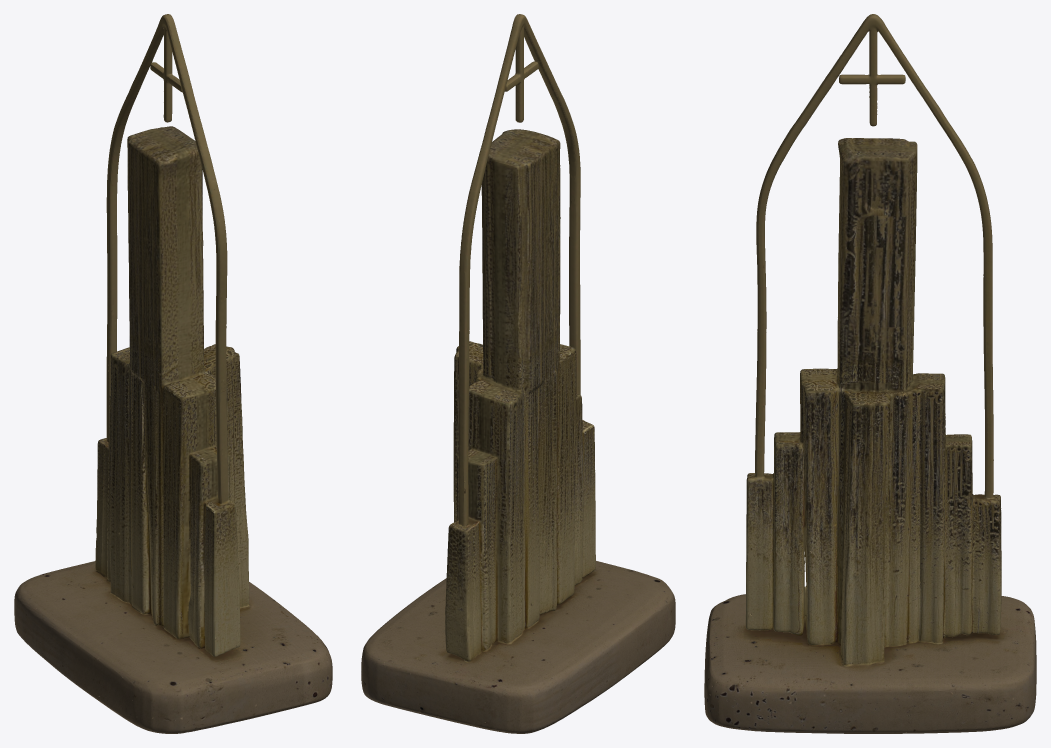
Rendered from souvenir.glb.
3 renders of one model, left to right at view 1: azimuth 30°, elevation 25°; view 2: azimuth 150°, elevation 25°; view 3: azimuth 270°, elevation 25°, orthographic. The views are drawn at different scales.
Visible parts, largest first — view 1: tripo_node_6ff32ba3-b252-4764-bf0c-e291f1ad712c; view 2: tripo_node_6ff32ba3-b252-4764-bf0c-e291f1ad712c; view 3: tripo_node_6ff32ba3-b252-4764-bf0c-e291f1ad712c.
Part boxes in pixels (box(x1,y1,x2,y2)): tripo_node_6ff32ba3-b252-4764-bf0c-e291f1ad712c: box(14, 14, 332, 733); tripo_node_6ff32ba3-b252-4764-bf0c-e291f1ad712c: box(361, 14, 675, 733); tripo_node_6ff32ba3-b252-4764-bf0c-e291f1ad712c: box(704, 14, 1036, 733).
Bounding box in the file's own units: 0.3176 × 1 × 0.4465.
Materials: 1 (1 with a texture image).
